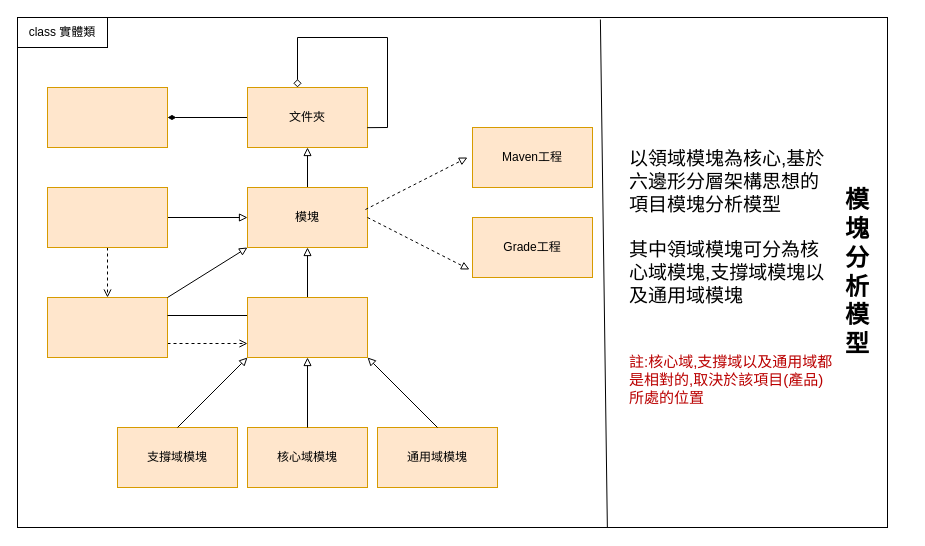
This 925x546 diagram has some shape labels left out. The shapes that lost their labels are listed below. From the top down, each one's centre as x and y in pixels, then its label:
(107,117): 項目
(107,217): 啟動模塊
(107,327): 適配器模塊
(307,327): 領域模塊
